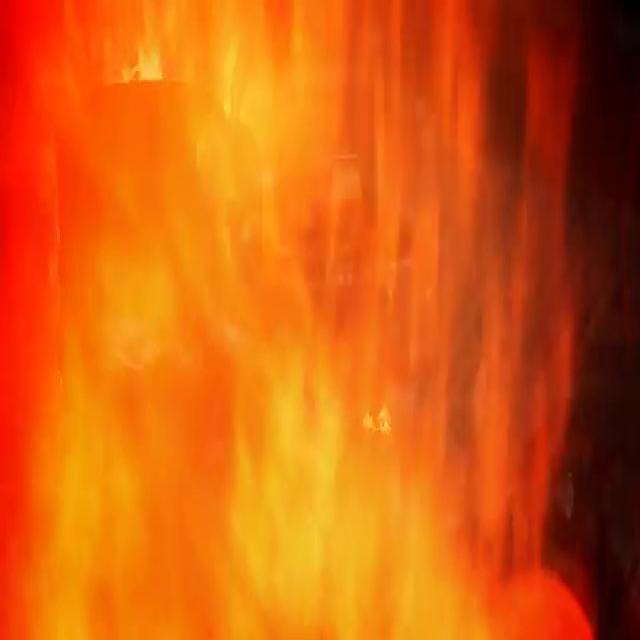fire: (52, 4, 568, 640)
